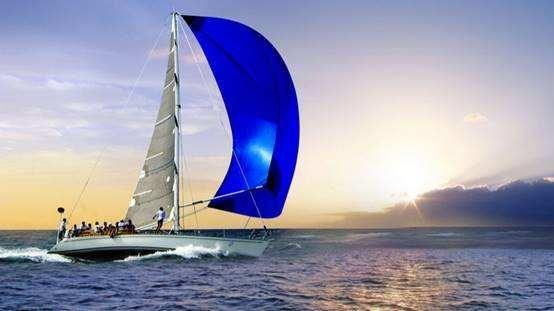fanchuan: (47, 7, 303, 259)
